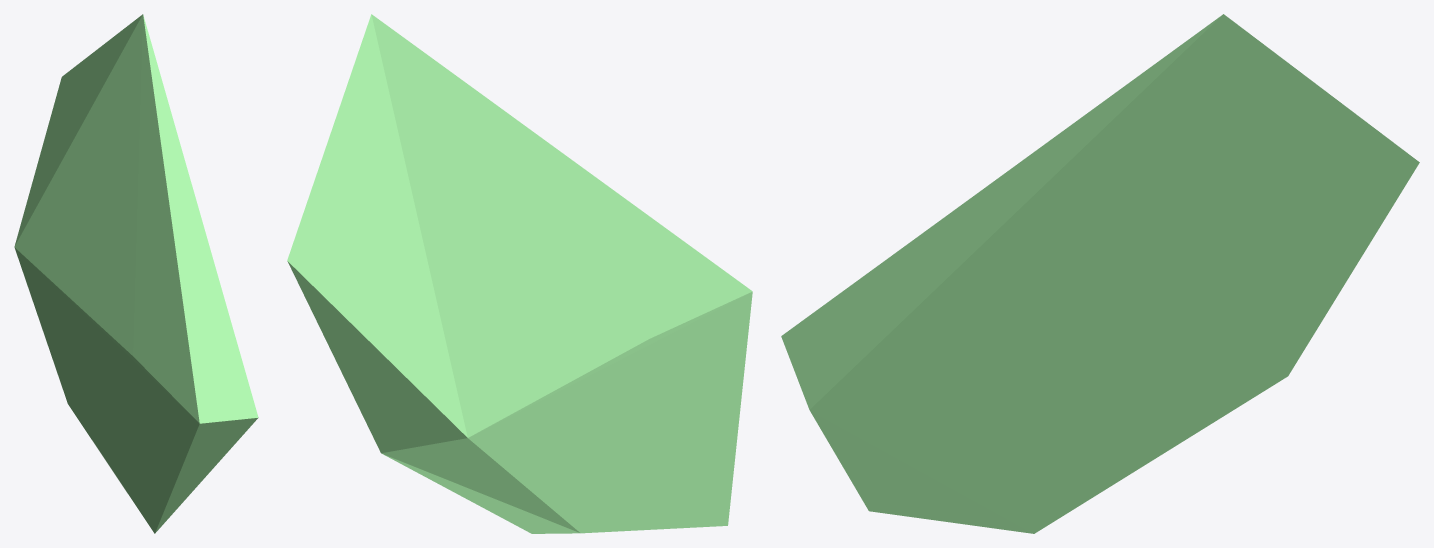
File: UMIRobot_UMIRobot_link_5_convex_coll_45.dae
3 renders of one model, left to right at view 1: azimuth 30°, elevation 25°; view 2: azimuth 150°, elevation 25°; view 3: azimuth 270°, elevation 25°, orthographic. The views are drawn at different scales.
Visible parts, largest first — view 1: node; view 2: node; view 3: node.
Boxes of the visible parts, left/top/right/bottom form: node: left=14, top=14, right=258, bottom=533; node: left=287, top=14, right=752, bottom=533; node: left=781, top=14, right=1419, bottom=533.
Bounding box in the file's own units: 0.00303 × 0.0104 × 0.0104.
